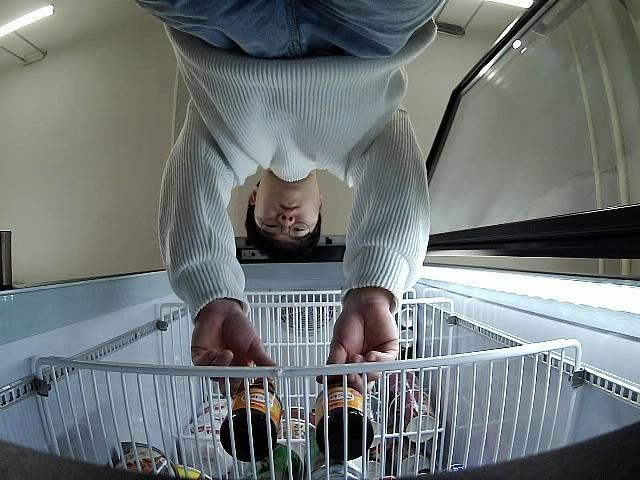17_vita500: (221, 376, 285, 464), (314, 380, 375, 464)
